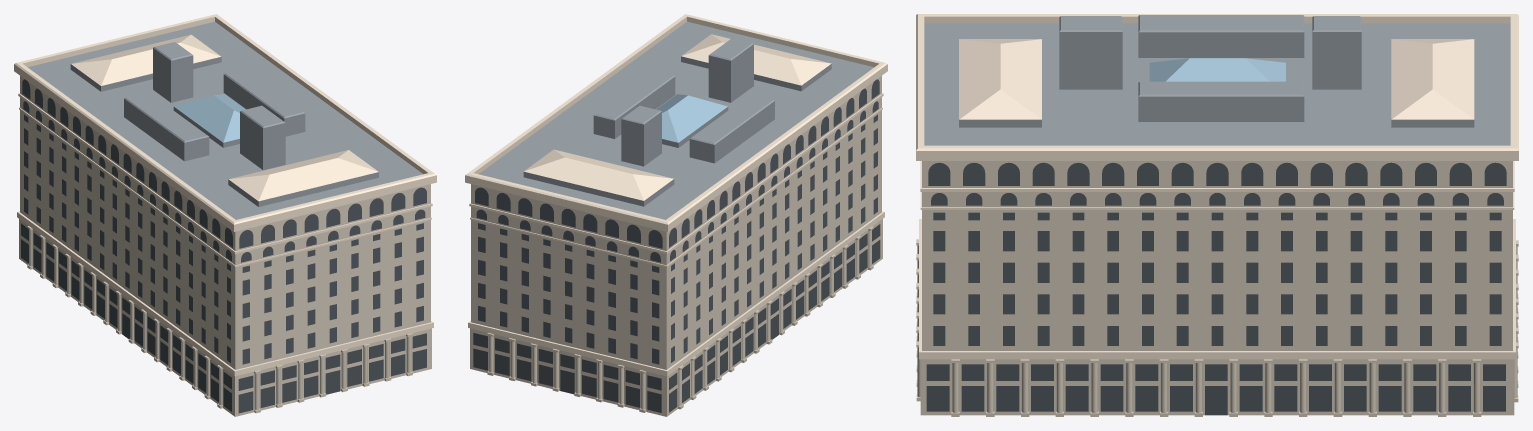
Rendered from phl-wanamaker-building.glb.
3 views of the same model, side by side, from view 1: azimuth 30°, elevation 25°; view 2: azimuth 150°, elevation 25°; view 3: azimuth 270°, elevation 25° (orthographic). The views are drawn at different scales.
Parts seen in each view (by area): view 1: Wanamaker Building; view 2: Wanamaker Building; view 3: Wanamaker Building.
Part boxes in pixels (<box>): Wanamaker Building: <box>14,14,436,416</box>; Wanamaker Building: <box>465,14,887,416</box>; Wanamaker Building: <box>916,14,1518,416</box>.
Bounding box in the file's own units: 81.4 × 89.5 × 153.
